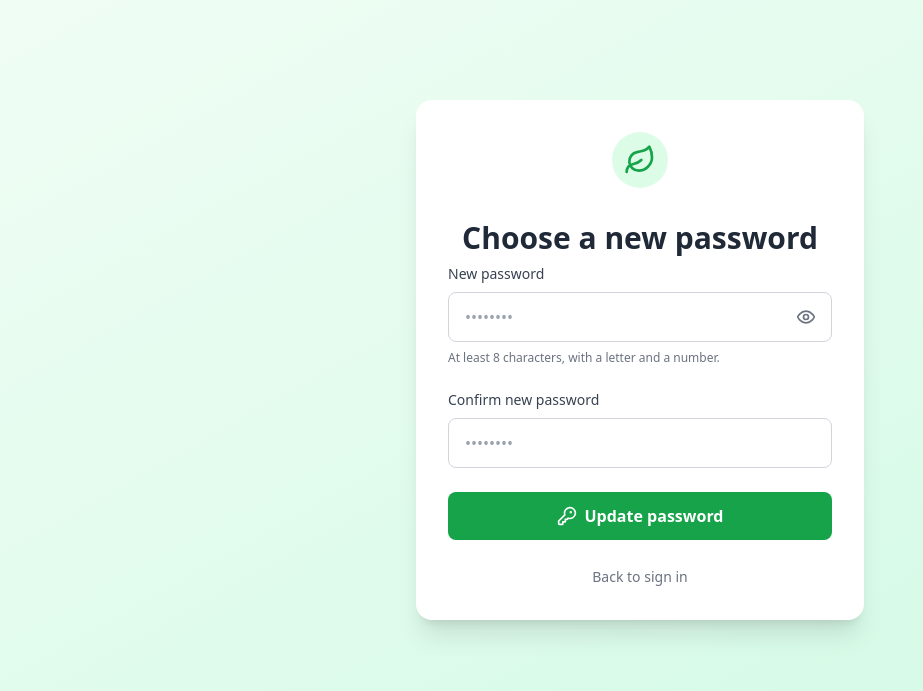
Test: ResetPassword › mismatched passwords are rejected without calling the API
In the password field with id "reset-password": (640, 317) left=448, top=292, right=832, bottom=342, type "FirstPassw0rd"
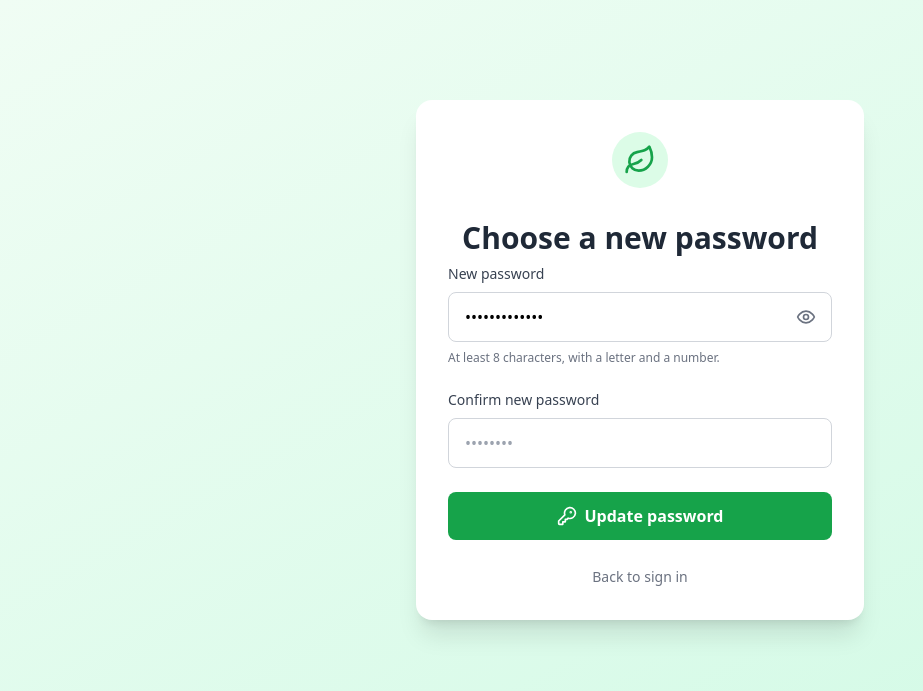
In the password field with id "reset-confirm-password": (640, 443) left=448, top=418, right=832, bottom=468, type "SecondPassw0rd"
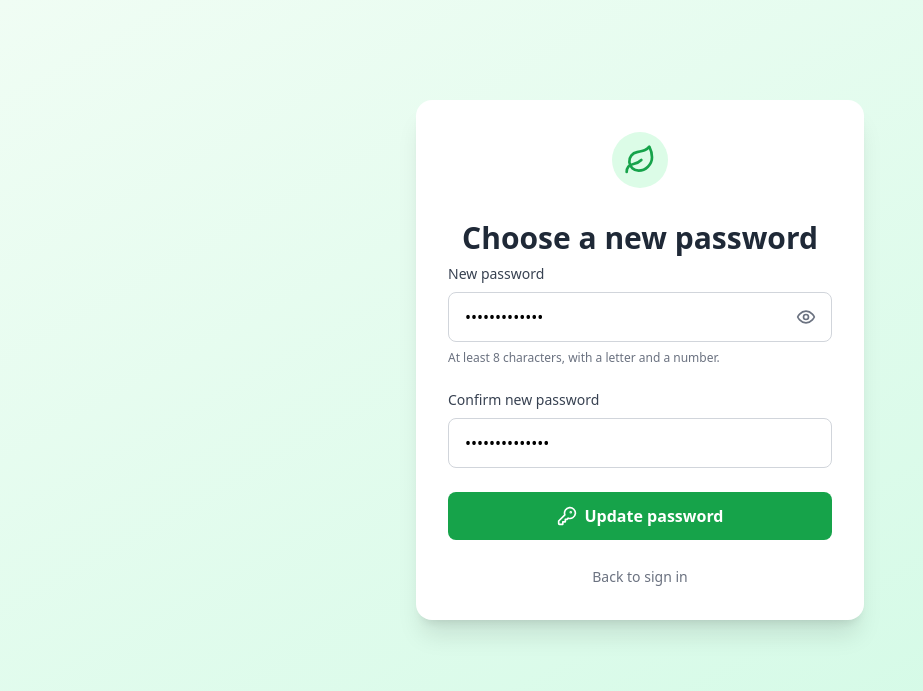
Submit the form named "Update password", box left=448, top=264, right=832, bottom=588
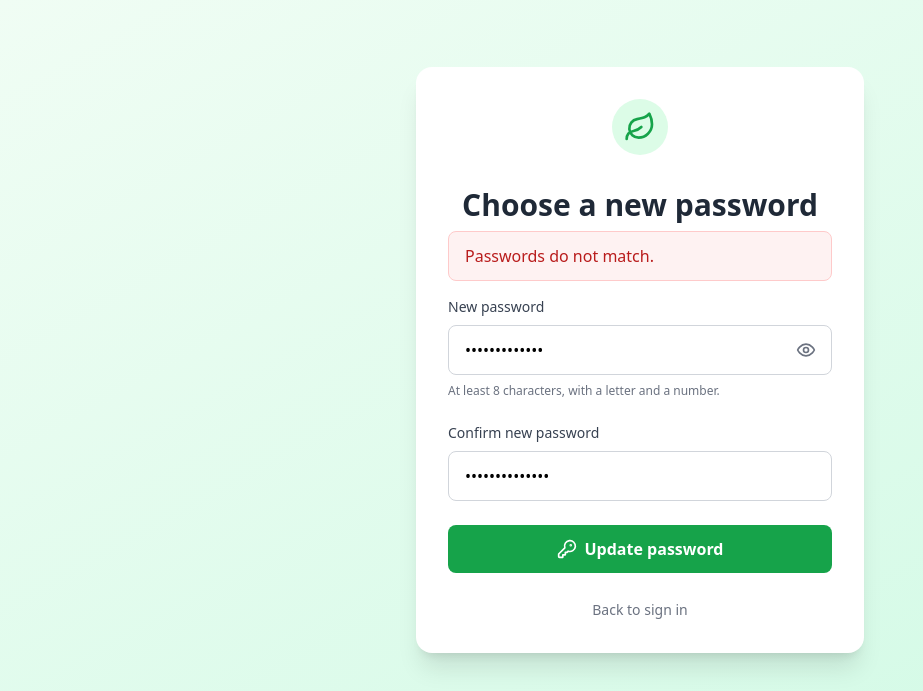
expect the text "Passwords do not match." is shown: met, box left=448, top=231, right=832, bottom=281
